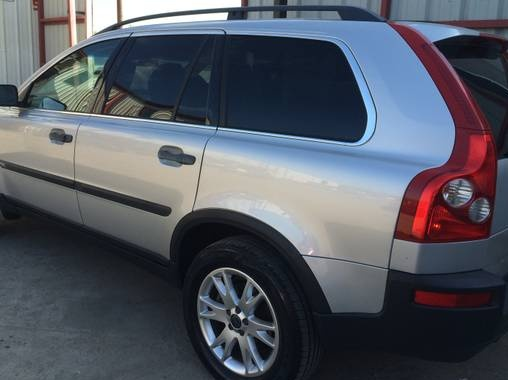volvo: (2, 8, 508, 379)
